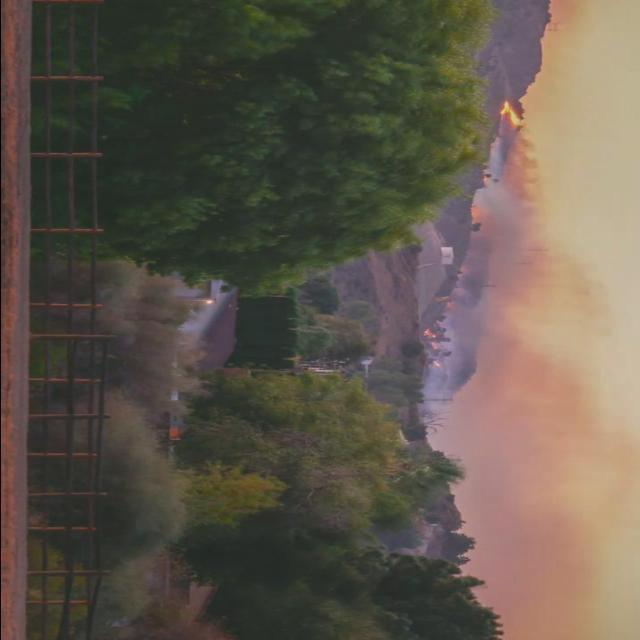Fire: (496, 98, 526, 124), (422, 327, 438, 339), (428, 359, 440, 366), (430, 341, 439, 349)
